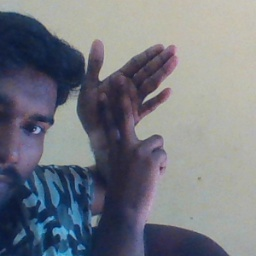N: (75, 38, 185, 183)
